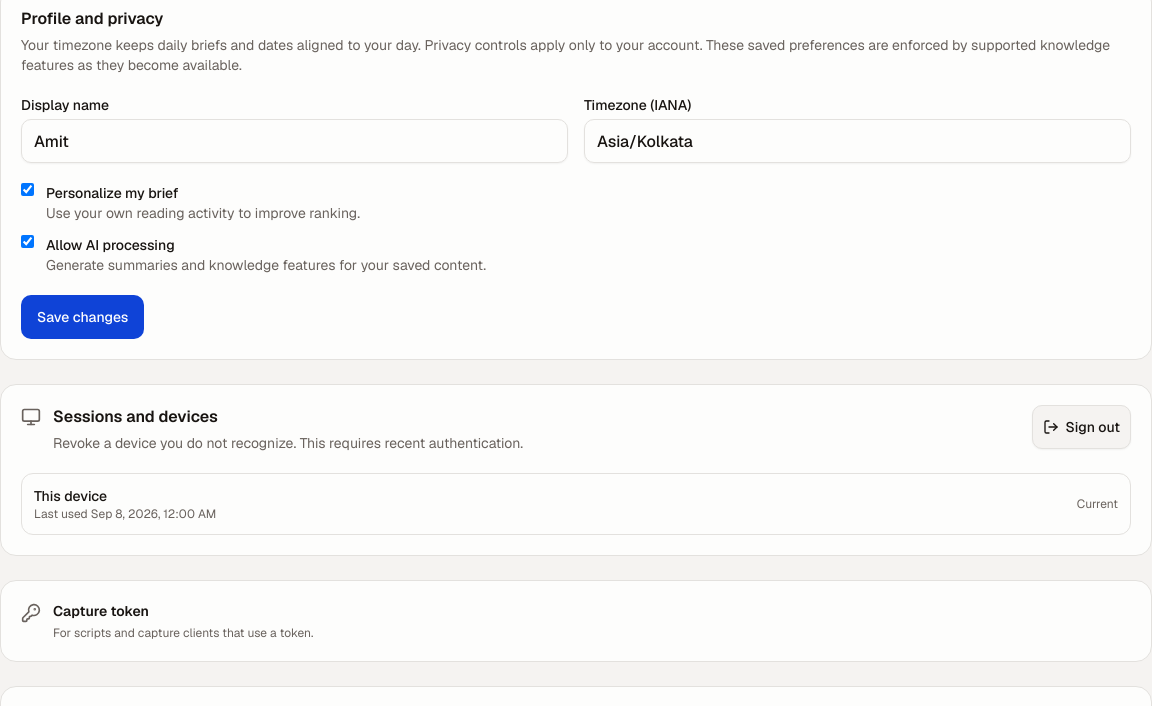
it: AccountCenter lifecycle recovery › keeps the account page available when sign-out fails
This screenshot has width=1152, height=706.
Expected: the text "This device" is shown, [34,487,107,505]
Click the button "Sign out": (1082, 427) [1032,405,1131,449]
(page scrolled)
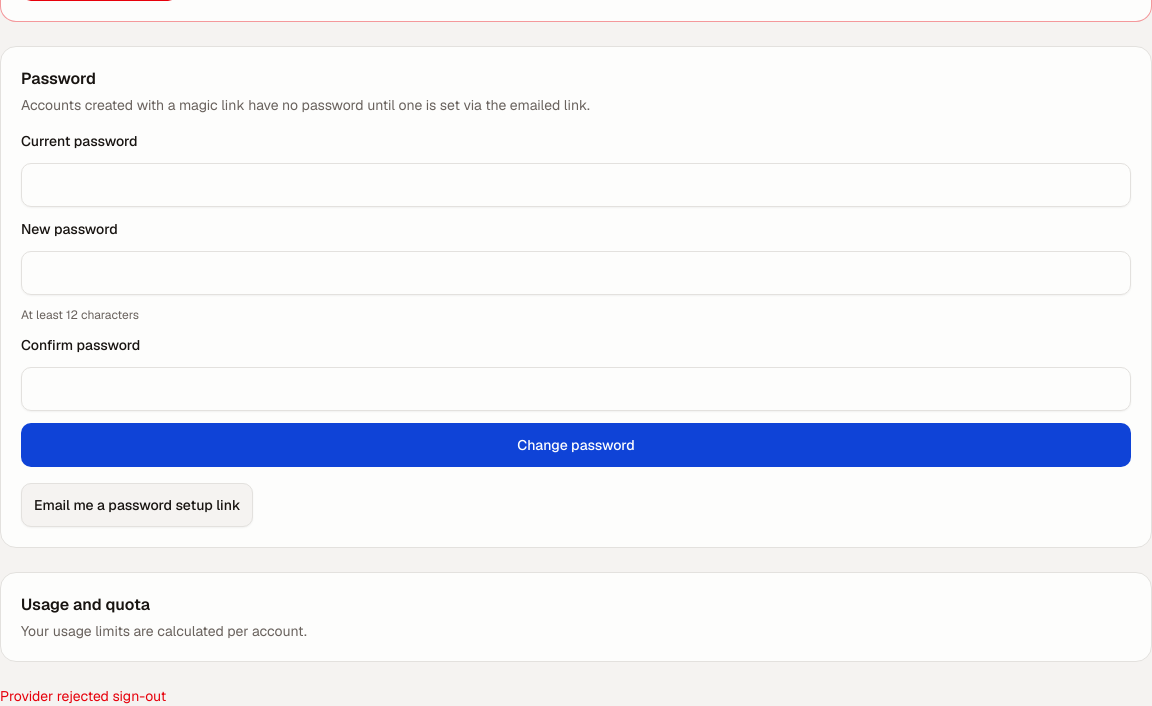
Expected: the text "Provider rejected sign-out" is shown, [0,687,166,705]
